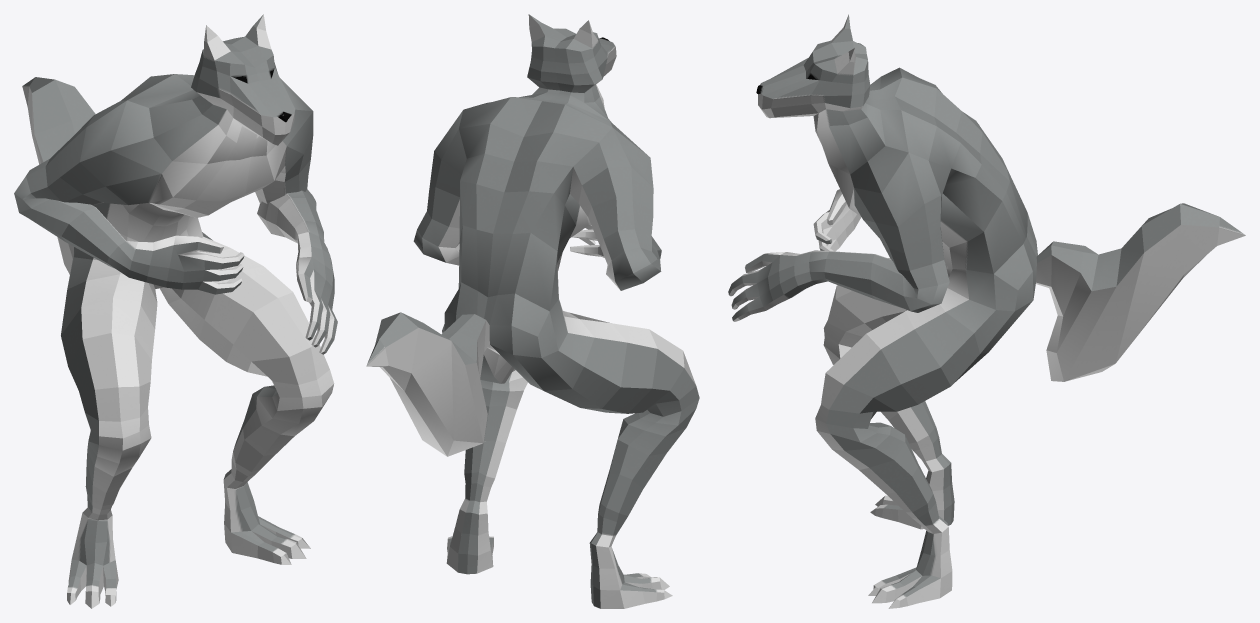
File: WolfIdle_(109).obj
The picture shows the model from 3 angles, left to right: view 1: azimuth 30°, elevation 25°; view 2: azimuth 150°, elevation 25°; view 3: azimuth 270°, elevation 25°; orthographic projection. The views are drawn at different scales.
Parts seen in each view (by area): view 1: Box001; view 2: Box001; view 3: Box001.
Boxes of the visible parts, x1,y1,x2,y2 form: Box001: [14, 14, 337, 608]; Box001: [366, 14, 699, 608]; Box001: [728, 14, 1245, 608].
Bounding box in the file's own units: 66.46 × 132 × 115.
